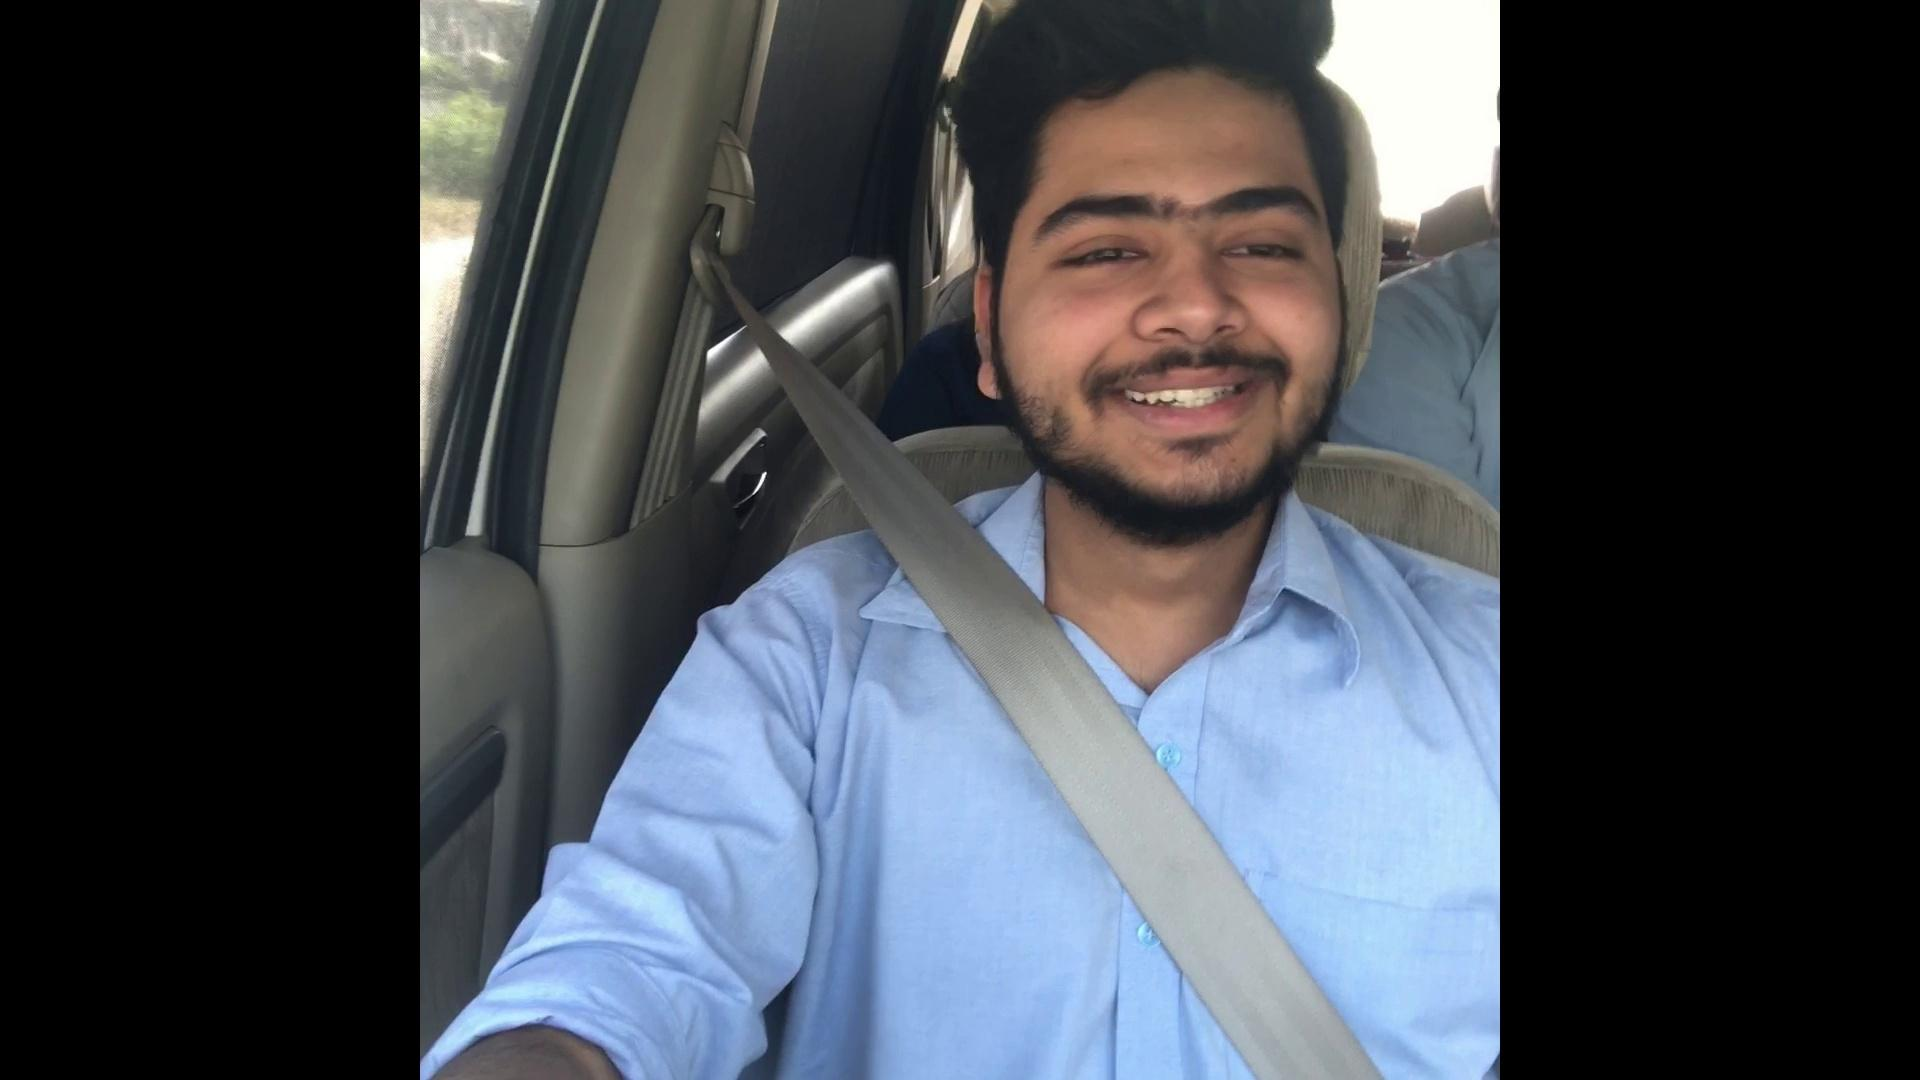Neutral: (961, 107, 1353, 520)
